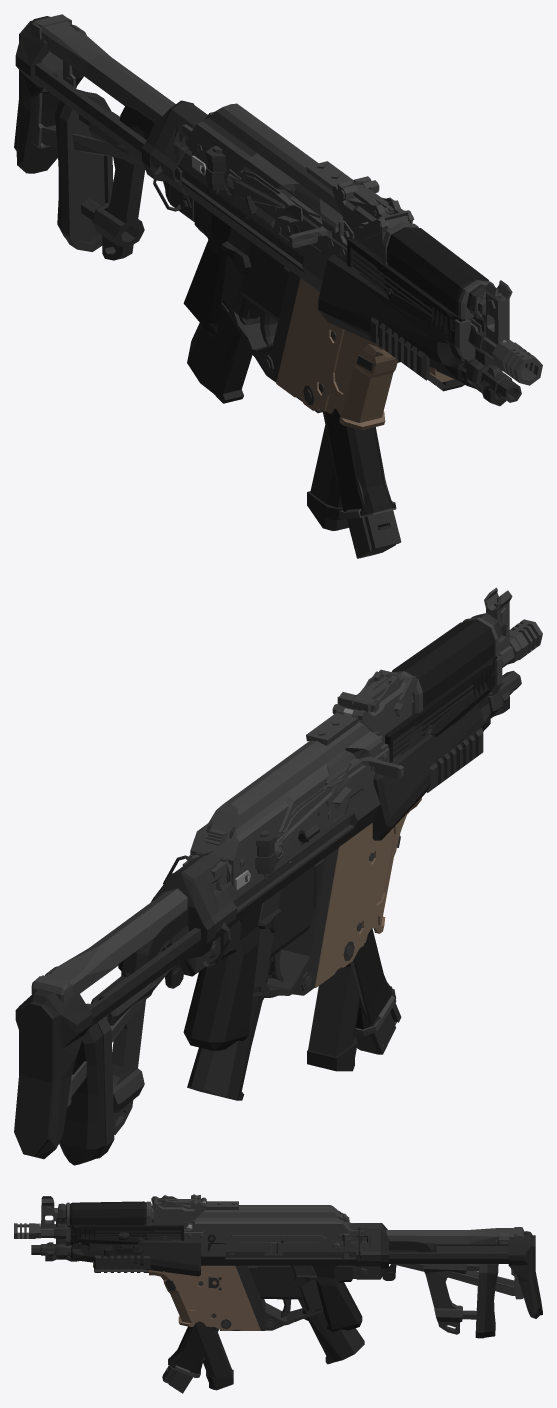
The model's file is smg.glb.
The picture shows the model from 3 angles, top to bottom: view 1: azimuth 30°, elevation 25°; view 2: azimuth 150°, elevation 25°; view 3: azimuth 270°, elevation 25°; orthographic projection. The views are drawn at different scales.
Visible parts, largest first — view 1: pp19, mp5, Cube.005_Material_0 (×2), mp5_st, Cube.005_Material.004_0, pp19_hg, pp19_st, mp5_hg, pp19_mag30, Cube.005_Material.009_0, mp5_mag30, Cube.005_Material.007_0 (+2 smaller); view 2: pp19, mp5_st, mp5, pp19_hg, Cube.005_Material_0 (×2), Cube.005_Material.004_0, pp19_st, Cube.005_Material.012_0, mp5_hg, Cube.005_Material.009_0, Cube.005_Material.007_0, pp19_mag30 (+2 smaller); view 3: pp19, mp5, mp5_st, Cube.005_Material.004_0, Cube.005_Material_0 (×2), pp19_hg, pp19_st, mp5_hg, Cube.005_Material.009_0, Cube.005_Material.007_0, Cube.005_Material.012_0, pp19_mag30 (+2 smaller).
Boxes of the visible parts, x1,y1,x2,y2 form: pp19: (183, 103, 542, 385); mp5: (177, 117, 521, 403); Cube.005_Material_0 (×2): (59, 91, 464, 413); mp5_st: (14, 16, 207, 221); Cube.005_Material.004_0: (276, 278, 453, 430); pp19_hg: (347, 227, 489, 347); pp19_st: (31, 14, 192, 163); mp5_hg: (318, 254, 465, 381); pp19_mag30: (325, 408, 396, 518); Cube.005_Material.009_0: (88, 111, 213, 260); mp5_mag30: (322, 410, 401, 558); Cube.005_Material.007_0: (310, 425, 342, 507); pp19: (183, 587, 542, 1050); mp5_st: (14, 855, 237, 1159); mp5: (187, 613, 521, 1100); pp19_hg: (385, 621, 496, 762); Cube.005_Material_0 (×2): (86, 712, 483, 1158); Cube.005_Material.004_0: (315, 797, 421, 987); pp19_st: (31, 854, 229, 1107); Cube.005_Material.012_0: (59, 908, 188, 1165); mp5_hg: (372, 695, 490, 840); Cube.005_Material.009_0: (90, 840, 270, 1134); Cube.005_Material.007_0: (308, 966, 359, 1056); pp19_mag30: (353, 928, 396, 1036); pp19: (14, 1194, 362, 1331); mp5: (31, 1203, 365, 1364); mp5_st: (355, 1223, 542, 1318); Cube.005_Material.004_0: (93, 1261, 260, 1330); Cube.005_Material_0 (×2): (94, 1222, 487, 1338); pp19_hg: (67, 1201, 183, 1244); pp19_st: (343, 1223, 523, 1299); mp5_hg: (71, 1239, 200, 1276); Cube.005_Material.009_0: (341, 1238, 466, 1334); Cube.005_Material.007_0: (189, 1321, 232, 1378); Cube.005_Material.012_0: (389, 1240, 498, 1337); pp19_mag30: (168, 1326, 215, 1377).
Bounding box in the file's own units: 0.0797 × 0.292 × 0.7236.
